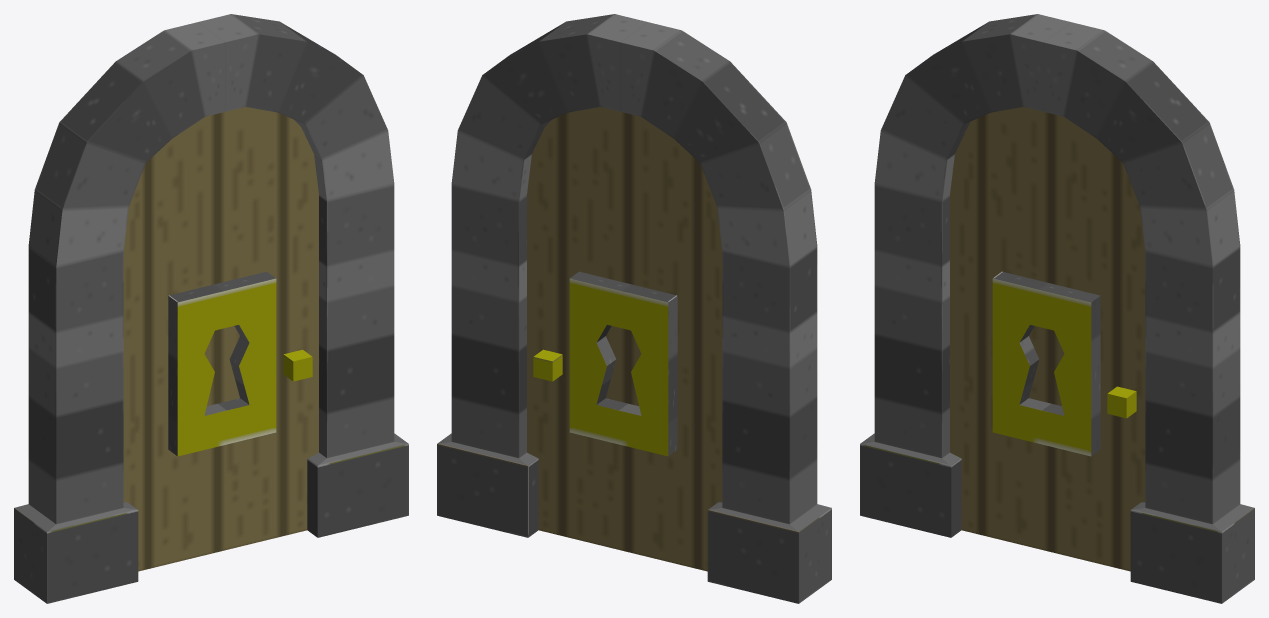
The model's file is door.fbx.
3 renders of one model, left to right at view 1: azimuth 30°, elevation 25°; view 2: azimuth 150°, elevation 25°; view 3: azimuth 330°, elevation 25°, orthographic.
Visible parts, largest first — view 1: arc, door, lock, knob; view 2: arc, door, lock, knob; view 3: arc, door, lock, knob.
Boxes of the visible parts, x1,y1,x2,y2 form: arc: [14, 14, 408, 603]; door: [123, 107, 318, 571]; lock: [168, 271, 276, 456]; knob: [283, 349, 312, 381]; arc: [437, 14, 831, 603]; door: [527, 107, 722, 571]; lock: [569, 271, 677, 456]; knob: [533, 349, 562, 381]; arc: [860, 14, 1254, 603]; door: [950, 107, 1145, 571]; lock: [992, 271, 1100, 456]; knob: [1107, 386, 1136, 418].
Bounding box in the file's own units: 0.9881 × 1.35 × 0.1566.
